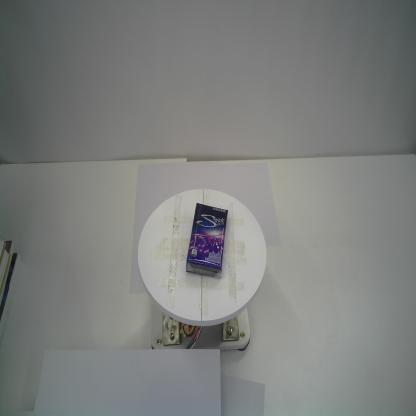Gum: (186, 202, 228, 279)
